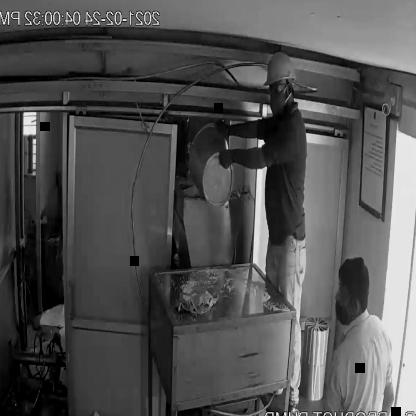helmet: (266, 47, 298, 88)
